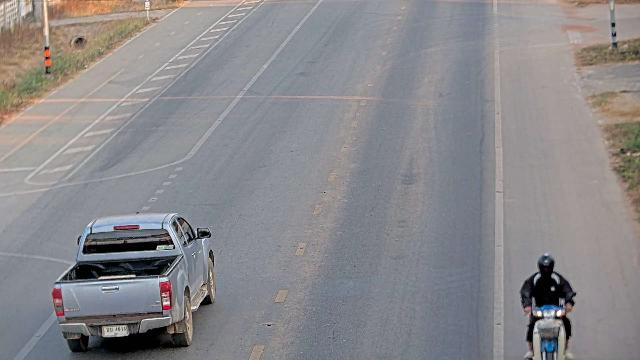motorcycle: (518, 253, 579, 360)
pickup-truck: (51, 211, 217, 352)
